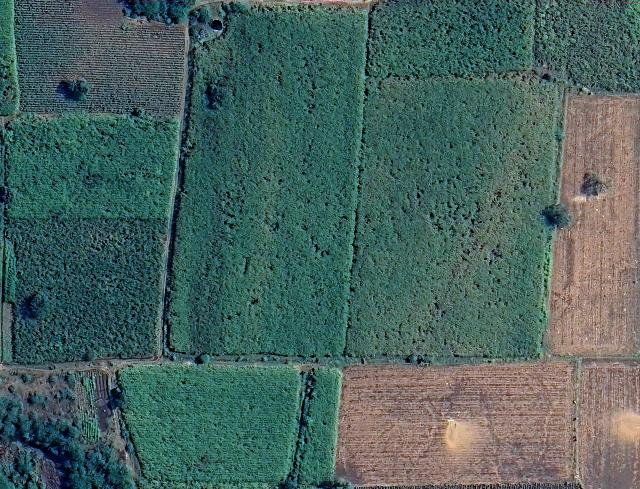Farms: (353, 0, 565, 360), (161, 9, 371, 362), (5, 115, 178, 363), (337, 365, 573, 487), (116, 365, 346, 489), (550, 92, 640, 358), (17, 0, 185, 113), (540, 1, 640, 95), (580, 361, 639, 489)
